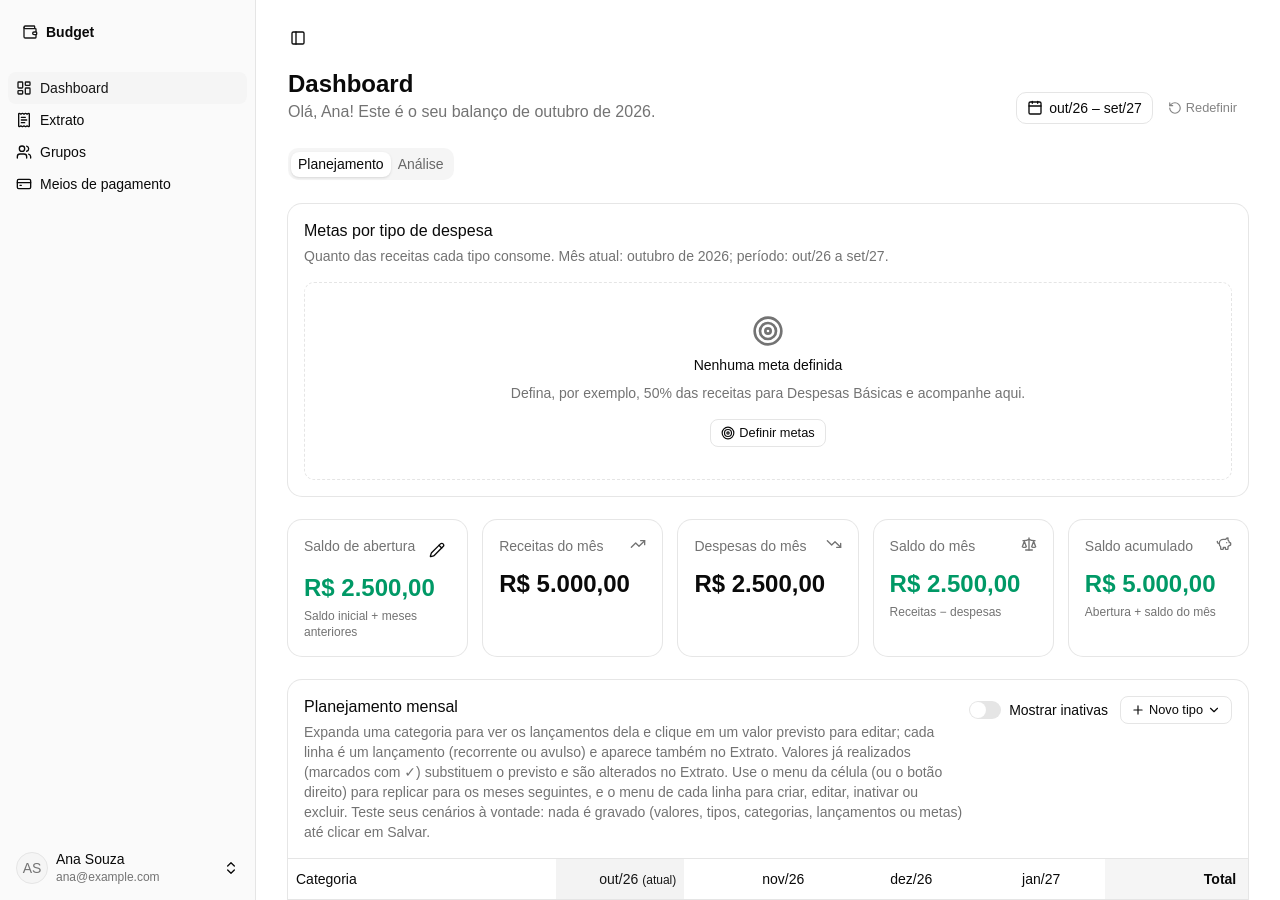
Test case: Dashboard route (/) › balance cards › adjusts the initial balance, accepting negative amounts
Expected: the heading "Dashboard" is shown, x1=288 y1=70 x2=413 y2=97
Click the button named "Ajustar saldo inicial" at (437, 550), box x1=423 y1=536 x2=451 y2=564
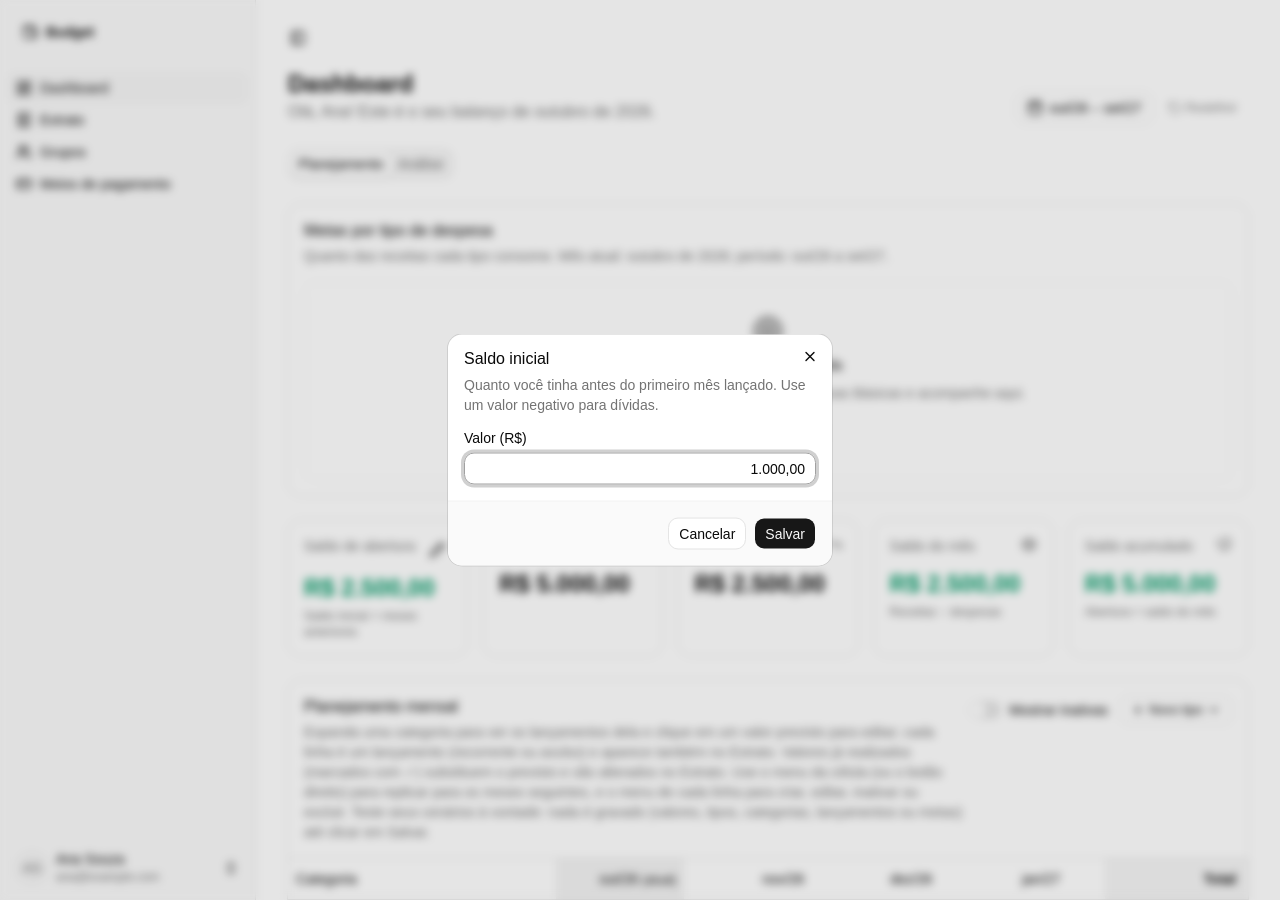
Expected: the field labelled "Valor (R$)" holds "1.000,00"
Replace the text in the field labelled "Valor (R$)" with "-500" at (640, 468), box x1=464 y1=452 x2=816 y2=484
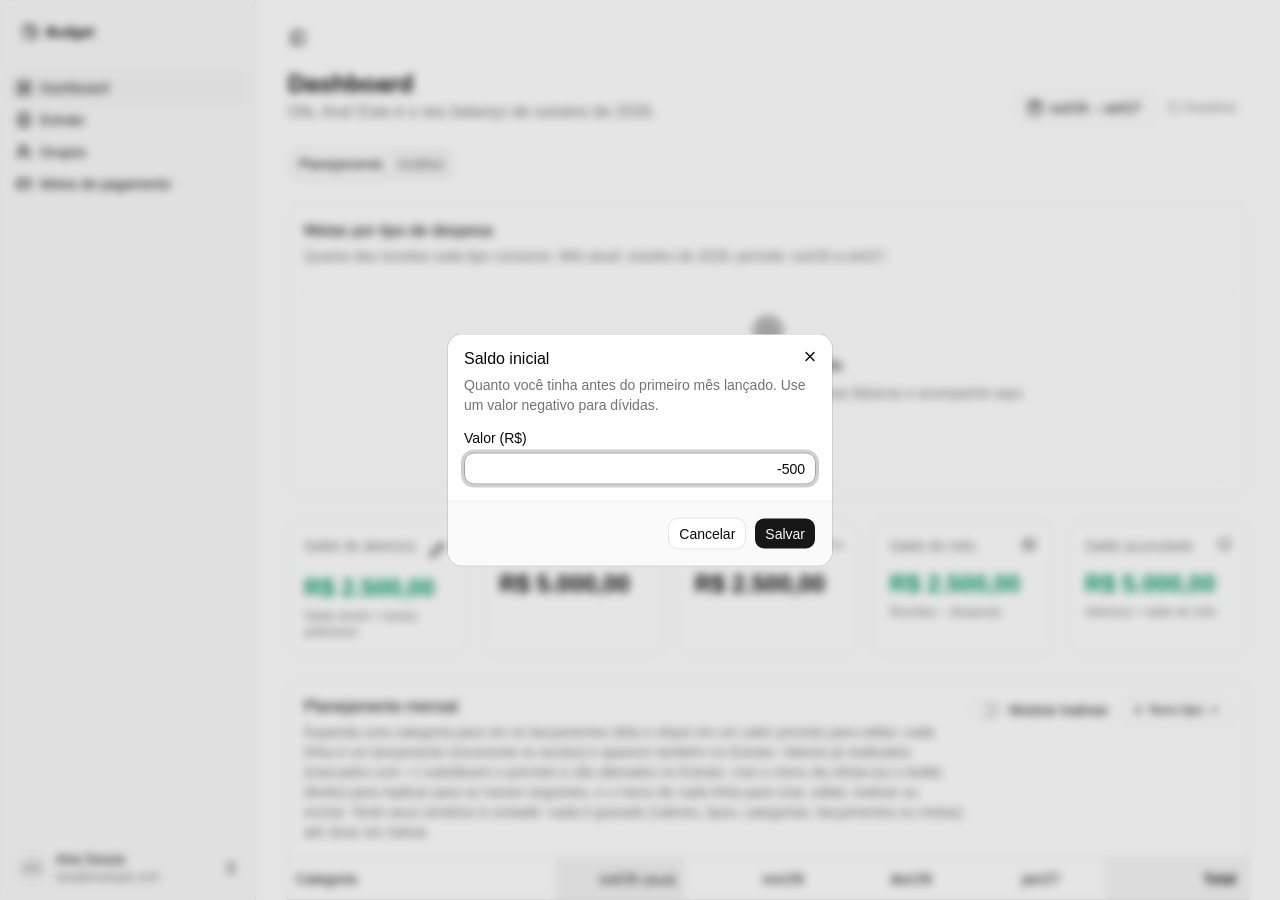
Click the button "Salvar" at (785, 534), box x1=754 y1=518 x2=816 y2=550
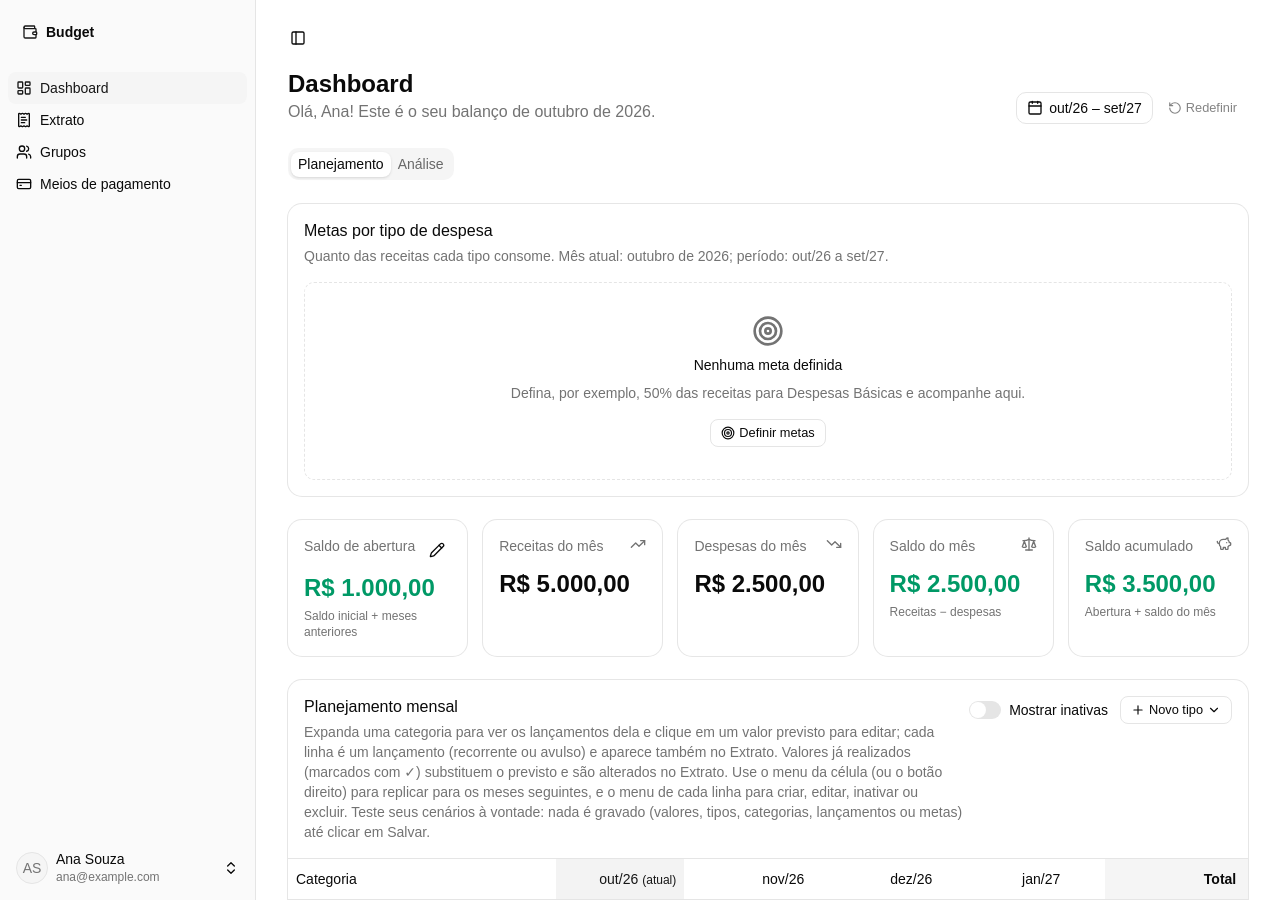
Expected: the dialog is gone
Expected: the text "R$ 1.000,00" is shown, x1=304 y1=572 x2=451 y2=604
